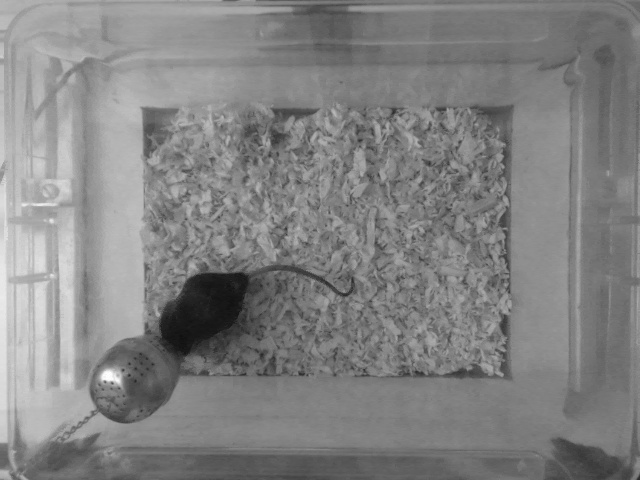mice: (156, 264, 356, 362)
